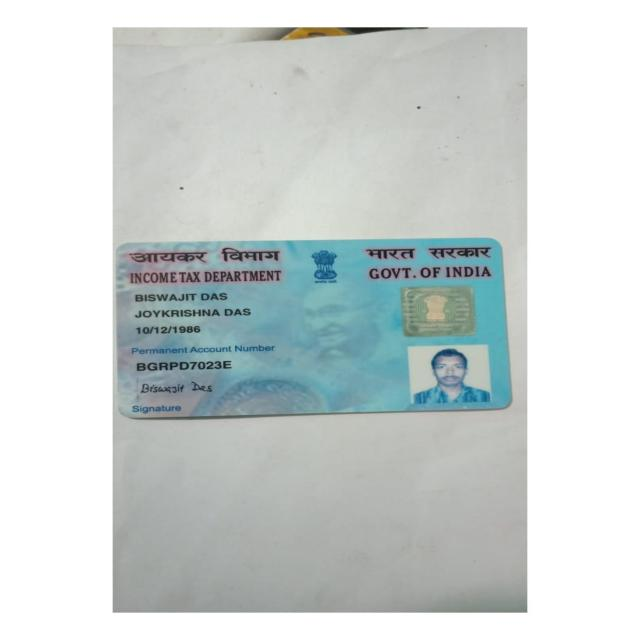pan_card: (119, 240, 508, 416)
